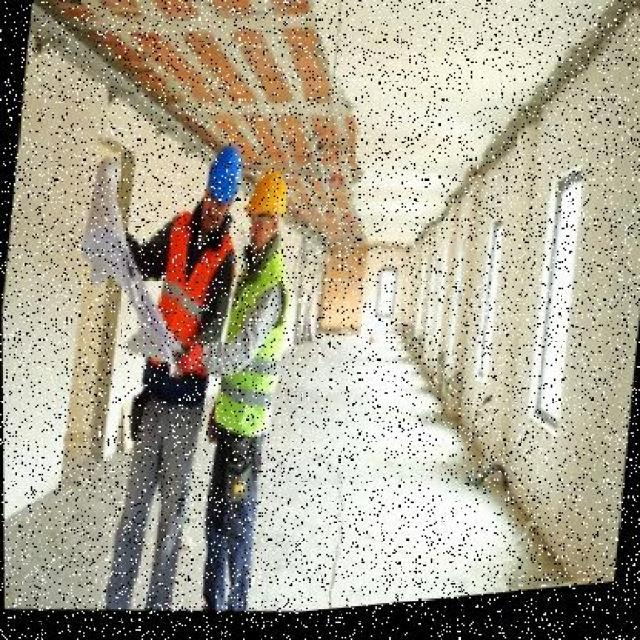helmet: (202, 139, 242, 219), (245, 169, 291, 228)
vest: (217, 259, 292, 463), (148, 205, 217, 403)
